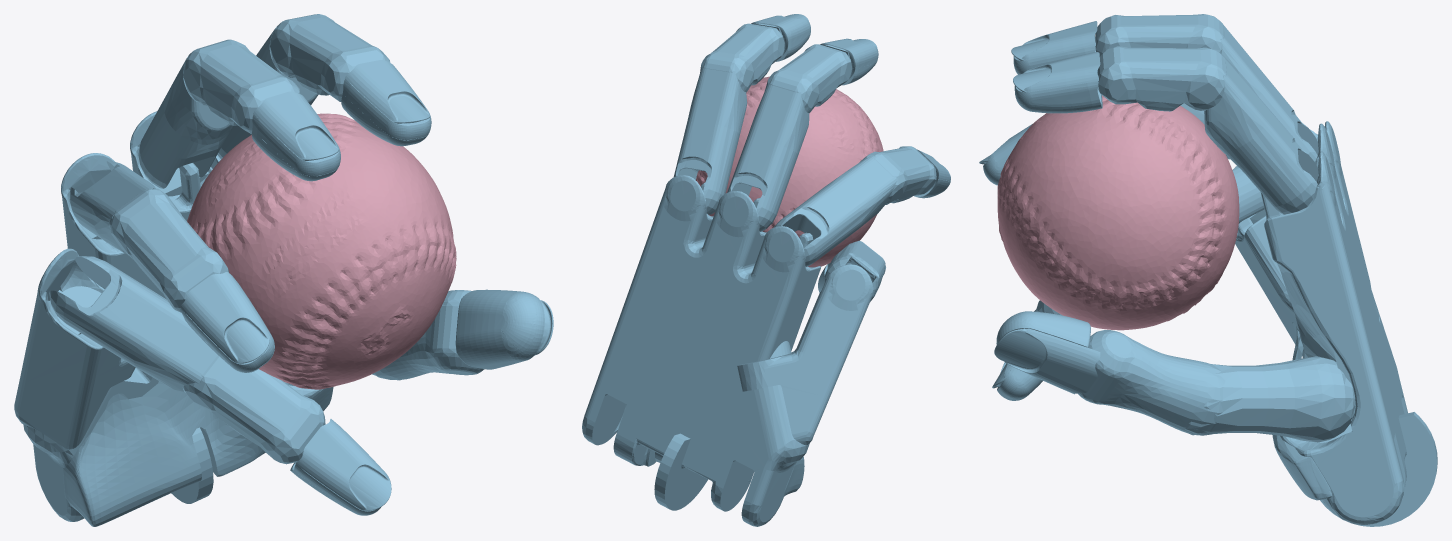
3 views of the same model, side by side, from view 1: azimuth 30°, elevation 25°; view 2: azimuth 150°, elevation 25°; view 3: azimuth 270°, elevation 25° (orthographic). The views are drawn at different scales.
Visible parts, largest first — view 1: world, baseball.stl; view 2: world, baseball.stl; view 3: world, baseball.stl.
Boxes of the visible parts, x1,y1,x2,y2 form: world: [14, 14, 553, 526]; baseball.stl: [187, 113, 456, 389]; world: [582, 14, 950, 526]; baseball.stl: [695, 76, 883, 267]; world: [979, 14, 1437, 526]; baseball.stl: [997, 95, 1239, 330].
Bounding box in the file's own units: 0.1158 × 0.1616 × 0.1377.
